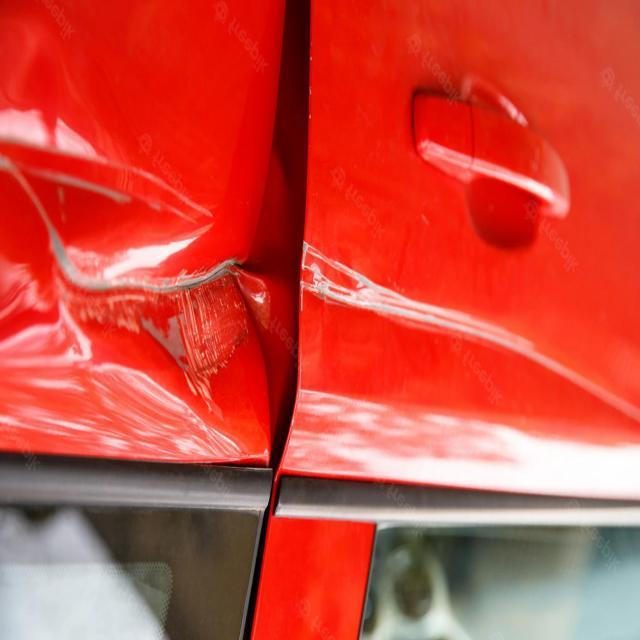dent: (1, 99, 366, 542)
